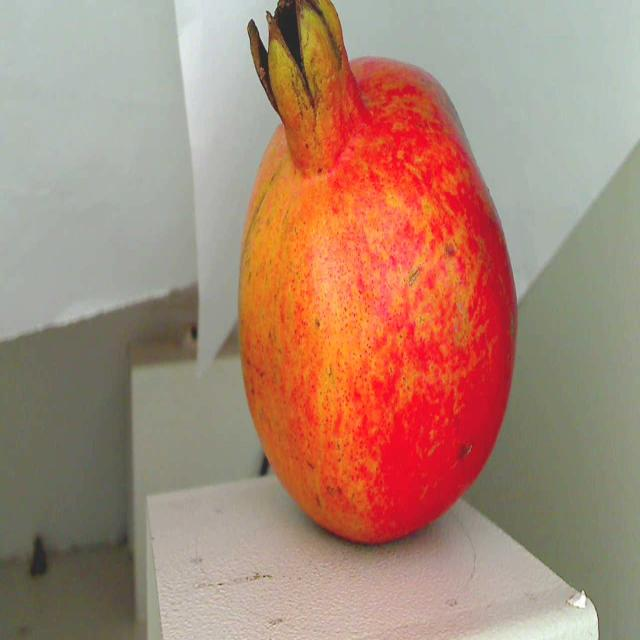pomegranate: (229, 0, 525, 553)
